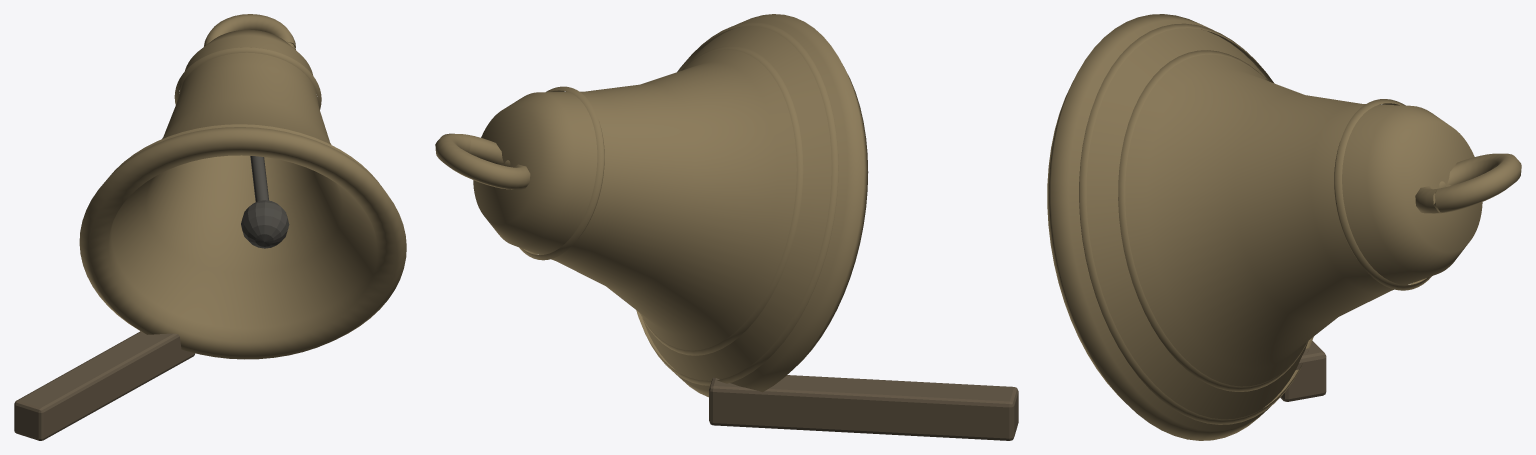
The model's file is fallen_bell.glb.
3 renders of one model, left to right at view 1: azimuth 30°, elevation 25°; view 2: azimuth 150°, elevation 25°; view 3: azimuth 270°, elevation 25°, orthographic. The views are drawn at different scales.
Parts seen in each view (by area): view 1: Bronze, Wood, Iron; view 2: Bronze, Wood; view 3: Bronze, Wood.
Boxes of the visible parts, x1,y1,x2,y2 form: Bronze: [79, 14, 406, 359]; Wood: [14, 331, 195, 440]; Iron: [241, 156, 289, 248]; Bronze: [435, 14, 868, 397]; Wood: [709, 375, 1018, 440]; Bronze: [1047, 14, 1521, 440]; Wood: [1280, 341, 1326, 401].
Size of the model in its own units: 2.87 by 2.01 by 2.38.
